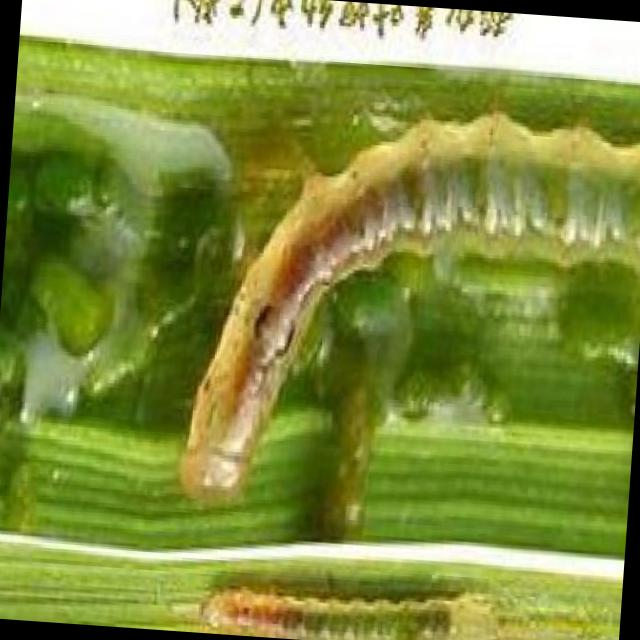leaf-folder: (172, 78, 640, 532), (172, 534, 506, 640)
